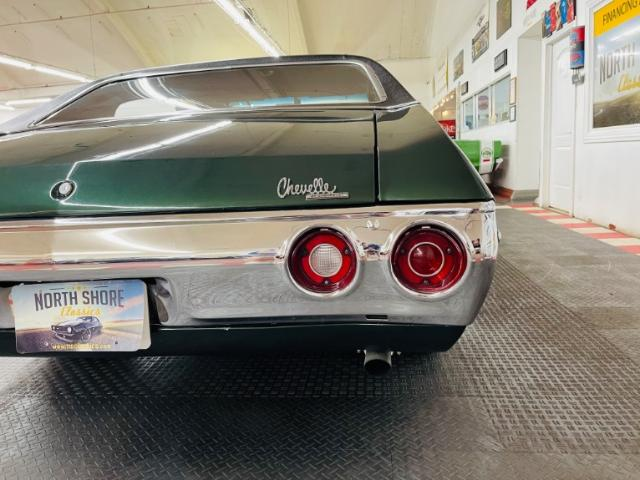chevelle-1972: (0, 55, 499, 373)
